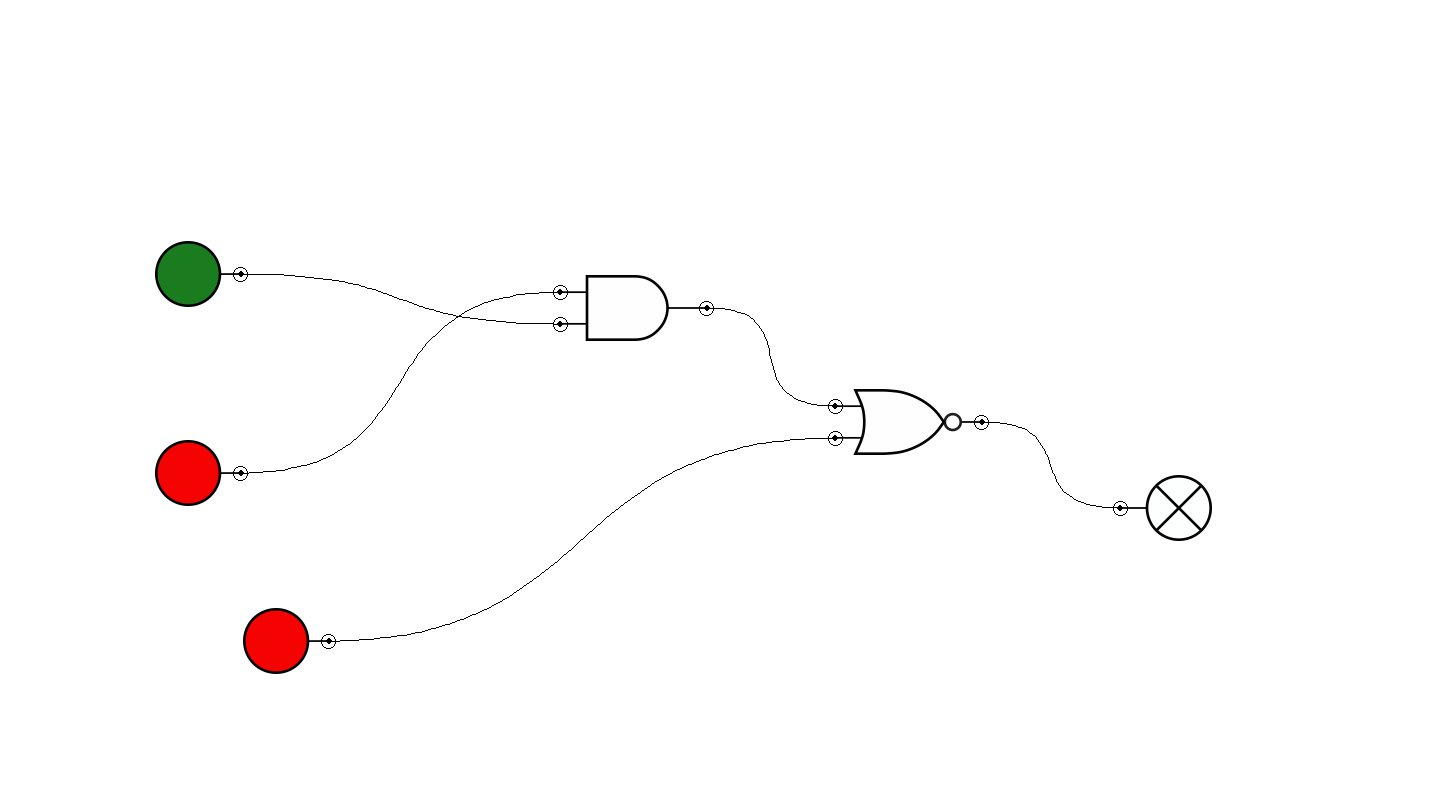and: (553, 275, 714, 341)
bulb: (1113, 475, 1212, 541)
nor: (828, 389, 989, 455)
switch_False: (155, 440, 248, 506), (243, 608, 336, 674)
switch_True: (155, 241, 248, 307)
